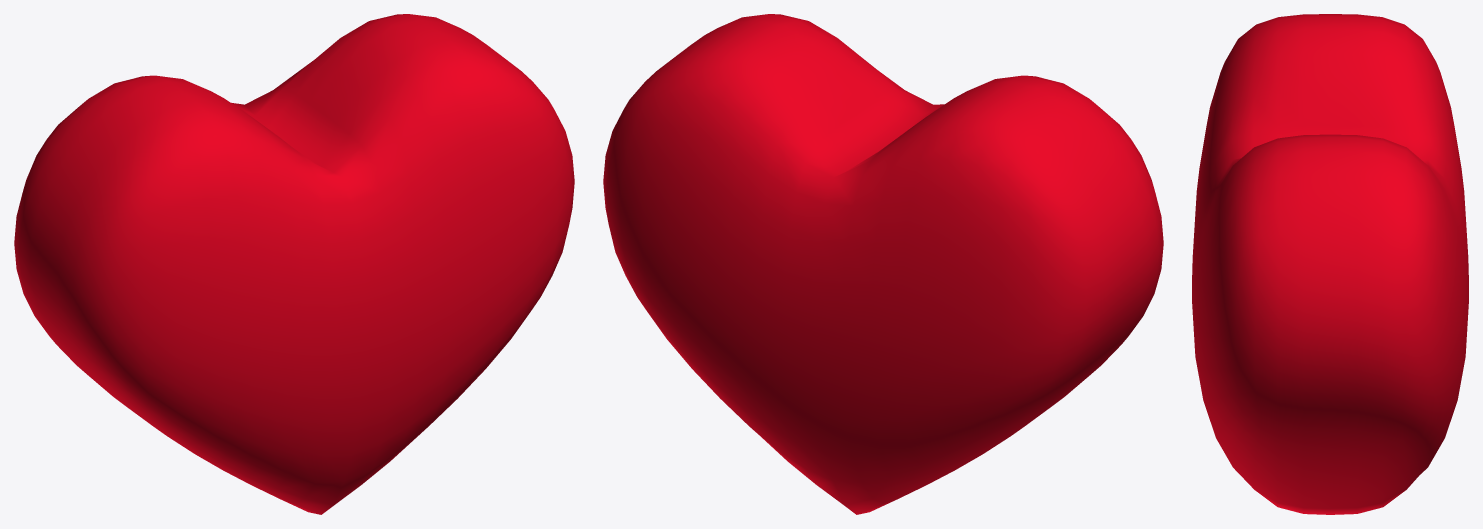
Rendered from Heart.fbx.
3 views of the same model, side by side, from view 1: azimuth 30°, elevation 25°; view 2: azimuth 150°, elevation 25°; view 3: azimuth 270°, elevation 25° (orthographic).
Visible parts, largest first — view 1: Cube.001; view 2: Cube.001; view 3: Cube.001.
Boxes of the visible parts, x1,y1,x2,y2 form: Cube.001: (14, 14, 574, 514); Cube.001: (603, 14, 1163, 514); Cube.001: (1192, 14, 1468, 514).
Size of the model in its own units: 223 by 186 by 108.
